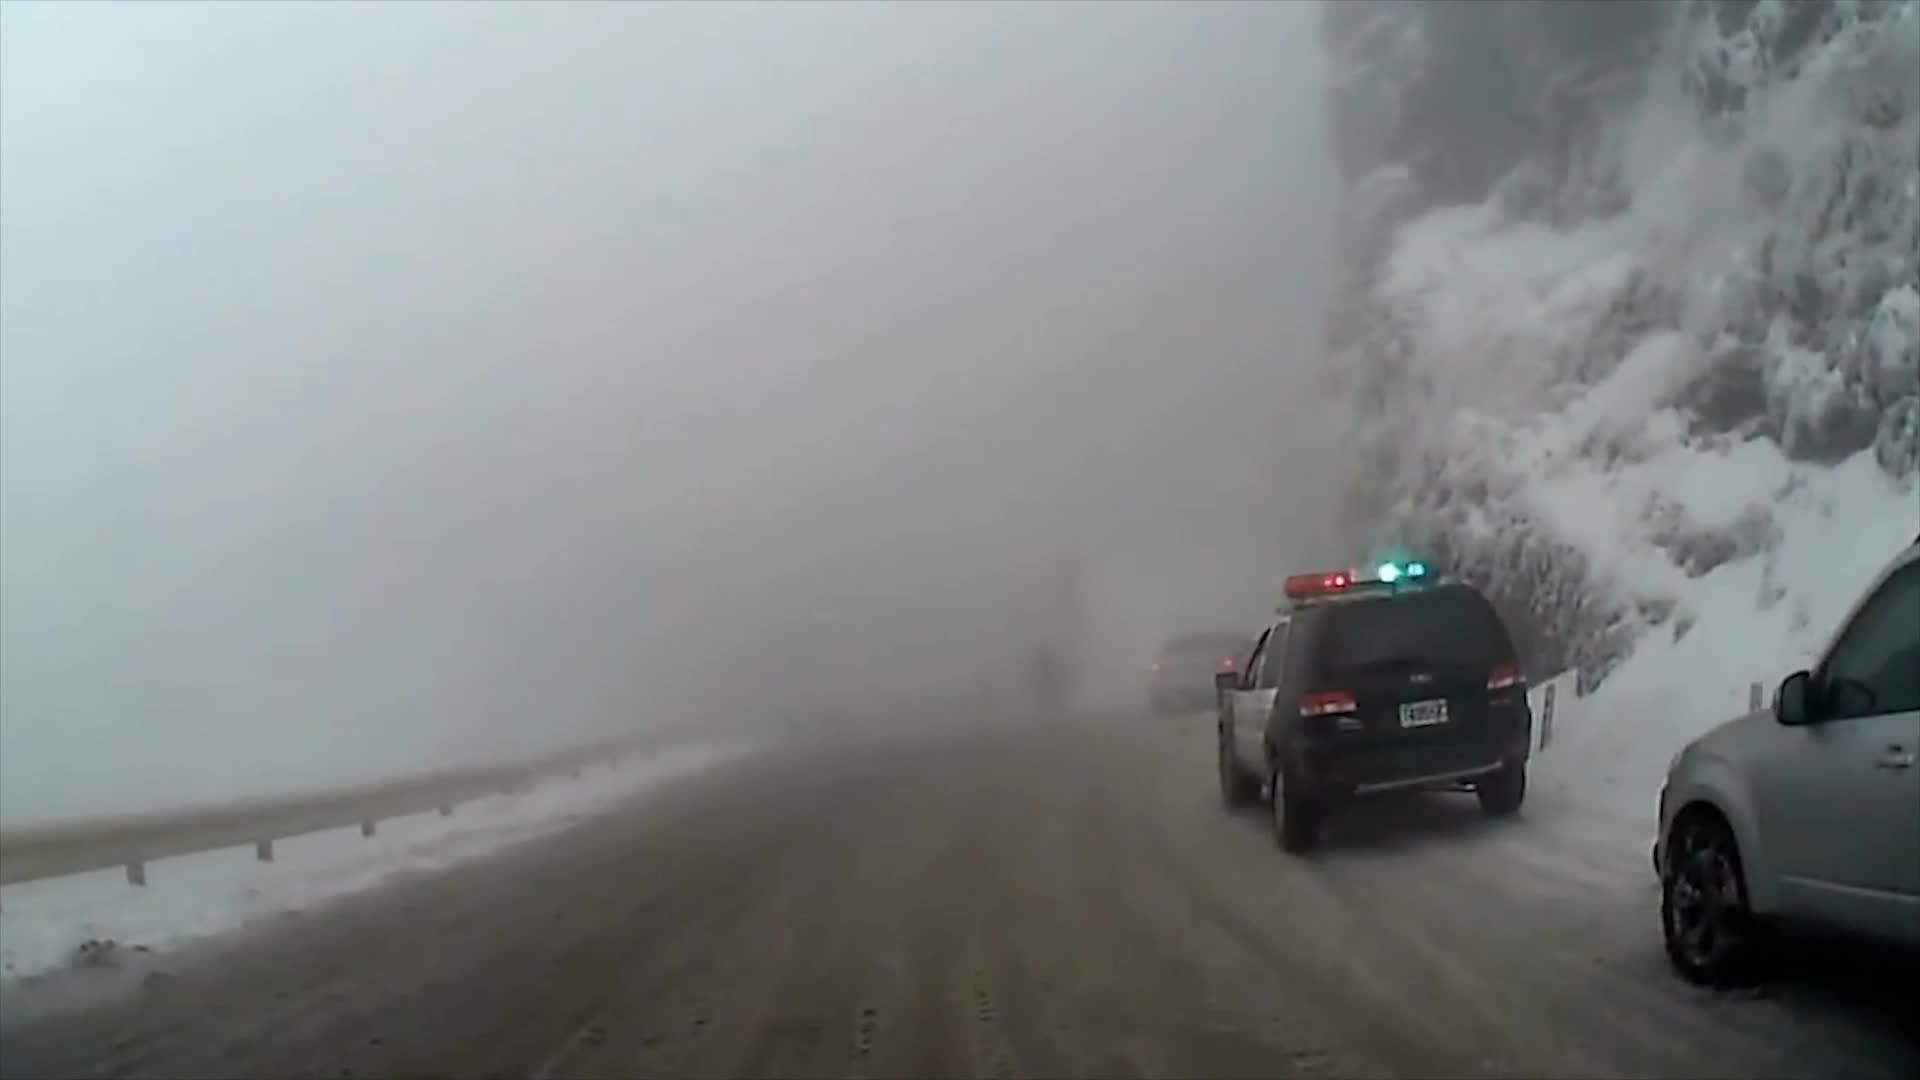vehicle: (1647, 531, 1919, 1005), (1212, 556, 1532, 855)
